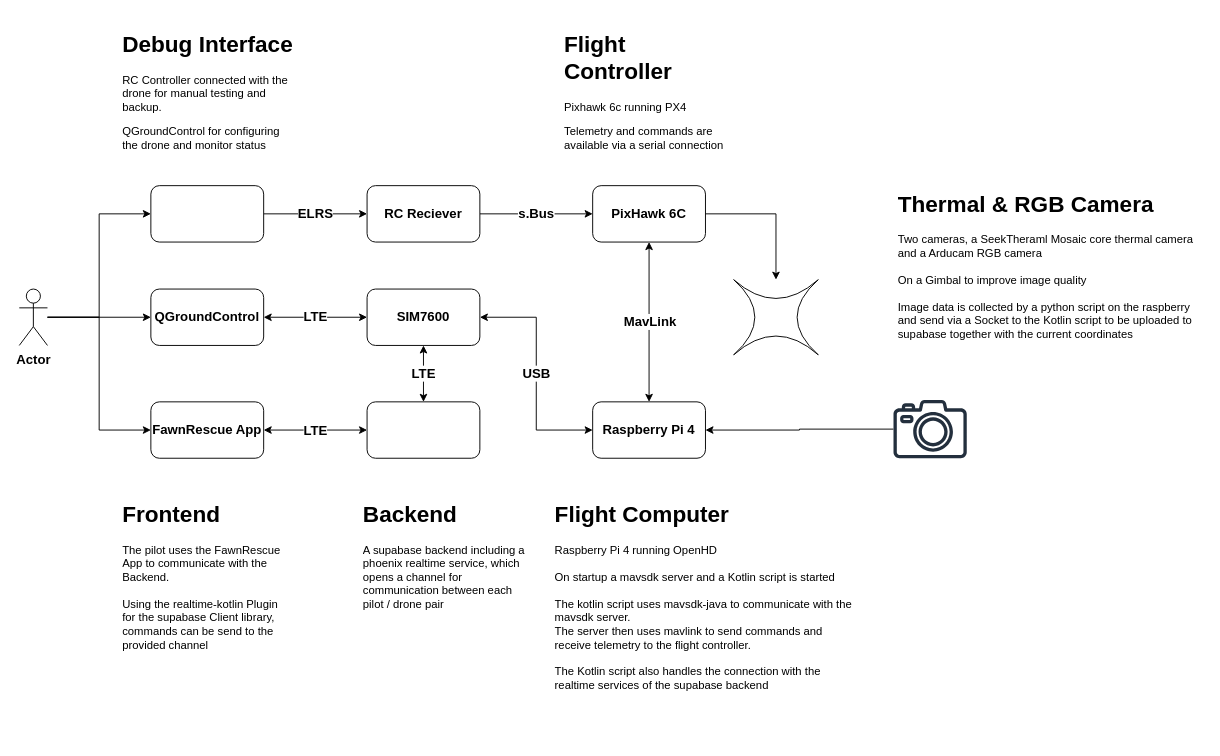
The diagram is 1220 pixels wide and 756 high, and some of its shapes have lost their labels. The shapes that lost their labels are listed below. From the top down, each one's box as (x1, y1, x2, y2) in pixels, then its label:
(150, 185, 264, 242): RC Controller
(733, 279, 818, 355): Drone
(366, 401, 480, 458): Supabase
